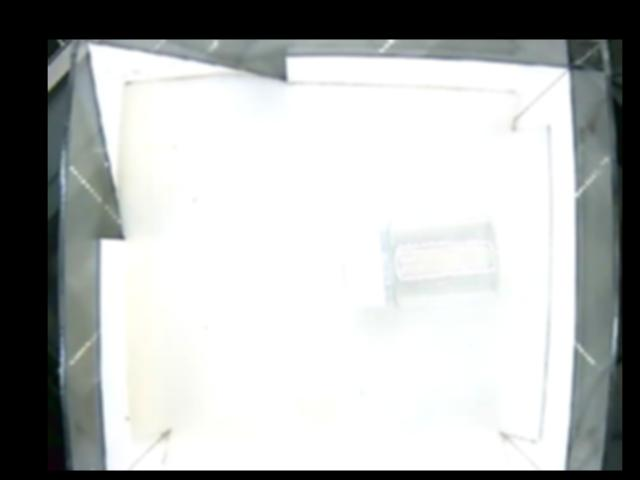Bottle: (341, 221, 501, 315)
